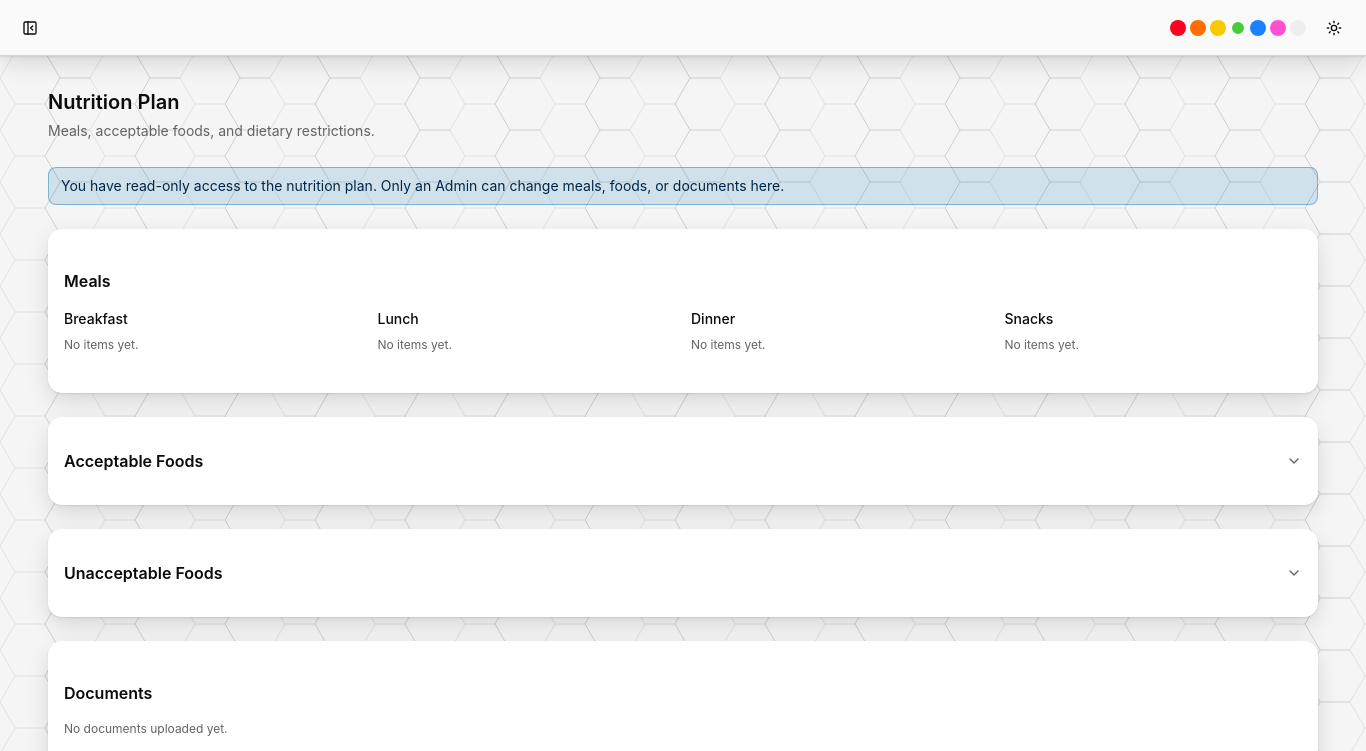
Test: NutritionPlanPage › viewer can still READ meal-type assignments
Click the button "Acceptable Foods".
click(134, 461)  # box x1=64 y1=445 x2=1302 y2=477
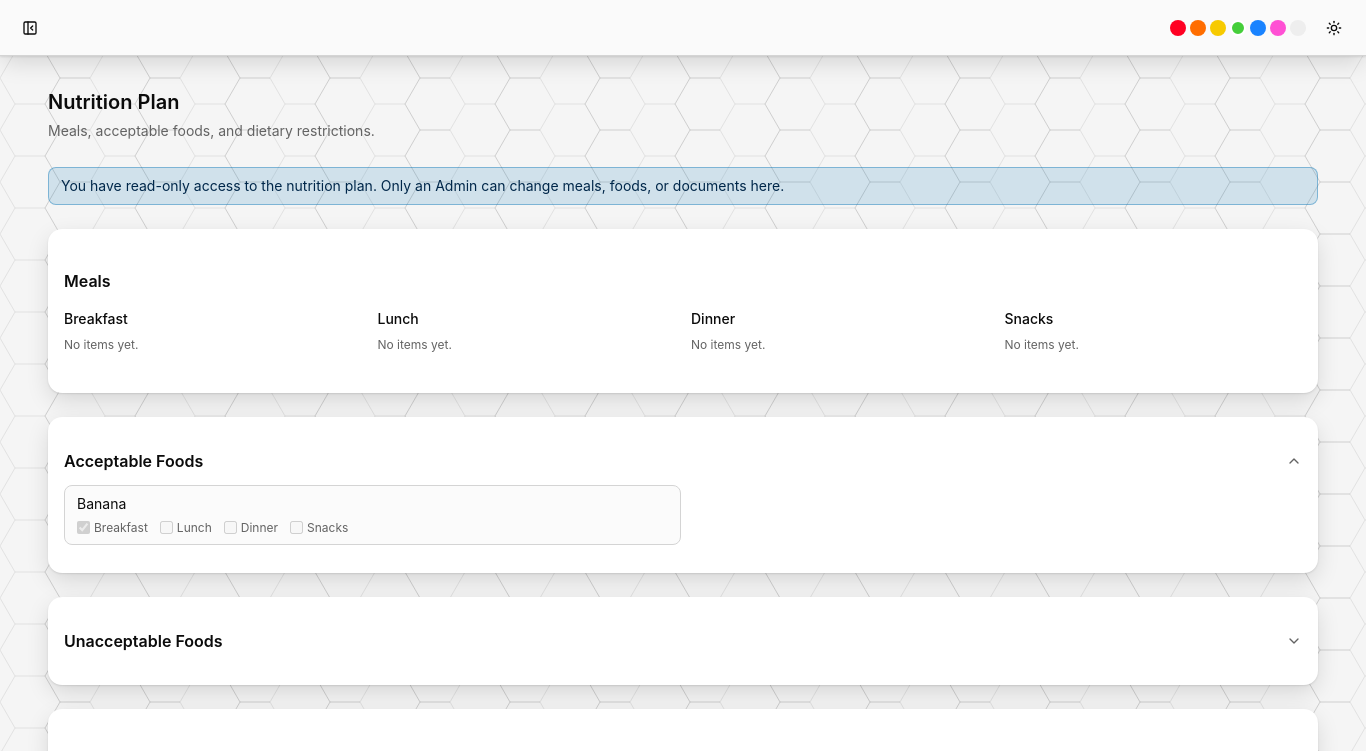
Check: the checkbox named "banana for breakfast" is checked, box x1=77 y1=521 x2=90 y2=534
Check: the checkbox named "banana for breakfast" is disabled, box x1=77 y1=521 x2=90 y2=534
